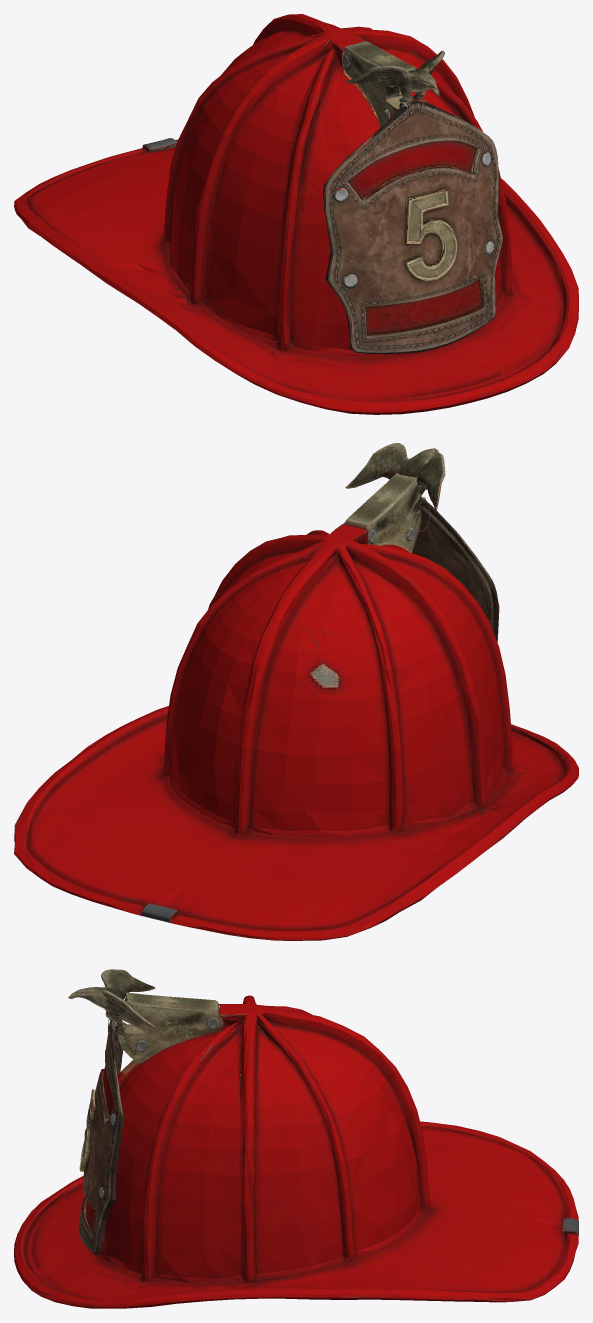
The model's file is ewm_firehelmet.glb.
3 views of the same model, one above another, from view 1: azimuth 30°, elevation 25°; view 2: azimuth 150°, elevation 25°; view 3: azimuth 270°, elevation 25° (orthographic). The views are drawn at different scales.
Parts seen in each view (by area): view 1: ewm_firehelmet; view 2: ewm_firehelmet; view 3: ewm_firehelmet.
Part boxes in pixels (x1=…): ewm_firehelmet: x1=14, y1=14, x2=578, y2=414; ewm_firehelmet: x1=14, y1=443, x2=578, y2=940; ewm_firehelmet: x1=14, y1=969, x2=578, y2=1308.
Size of the model in its own units: 0.3141 by 0.2286 by 0.422.
Materials: 1 (1 with a texture image).
